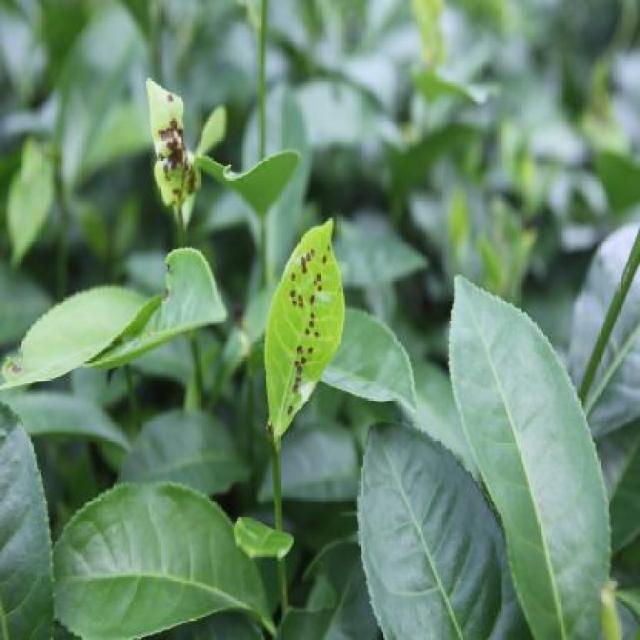Tea Mosquito bug infested leaf: (252, 183, 377, 494), (143, 72, 206, 228)
